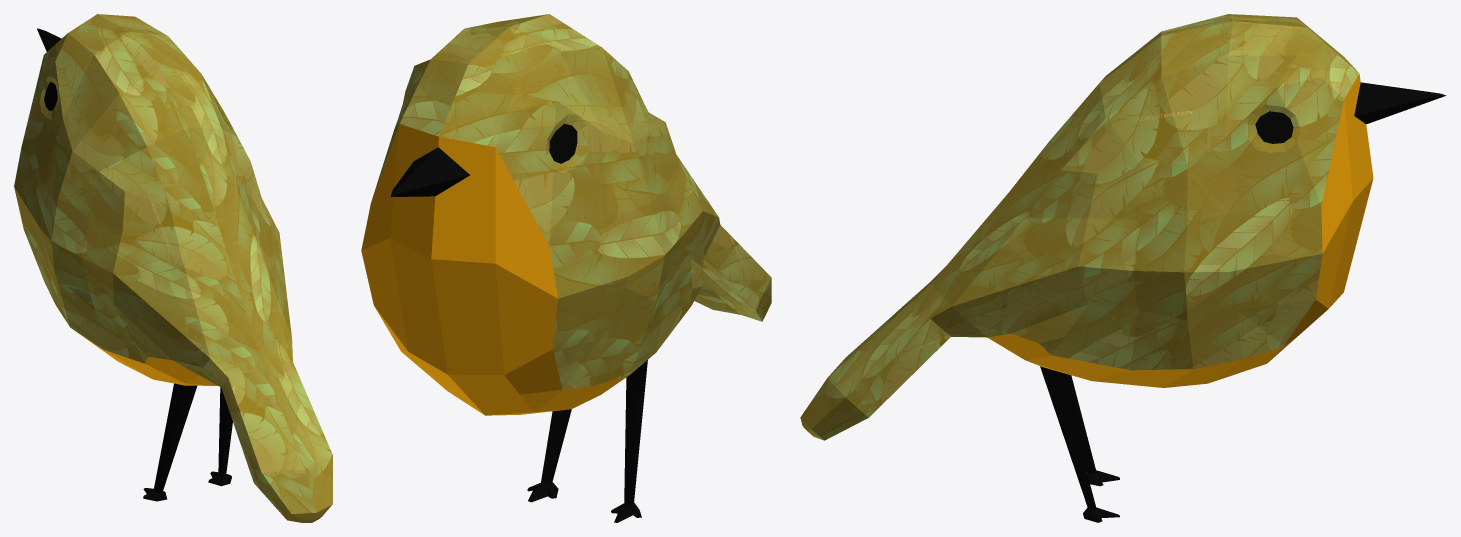
Rendered from Pajarororororor.fbx.
3 renders of one model, left to right at view 1: azimuth 30°, elevation 25°; view 2: azimuth 150°, elevation 25°; view 3: azimuth 270°, elevation 25°, orthographic. The views are drawn at different scales.
Parts seen in each view (by area): view 1: Cube; view 2: Cube; view 3: Cube.
Boxes of the visible parts, x1,y1,x2,y2 form: Cube: (14, 14, 332, 522); Cube: (361, 14, 771, 522); Cube: (800, 14, 1445, 522).
Size of the model in its own units: 148 by 294 by 361.
4 materials, 1 textured.
